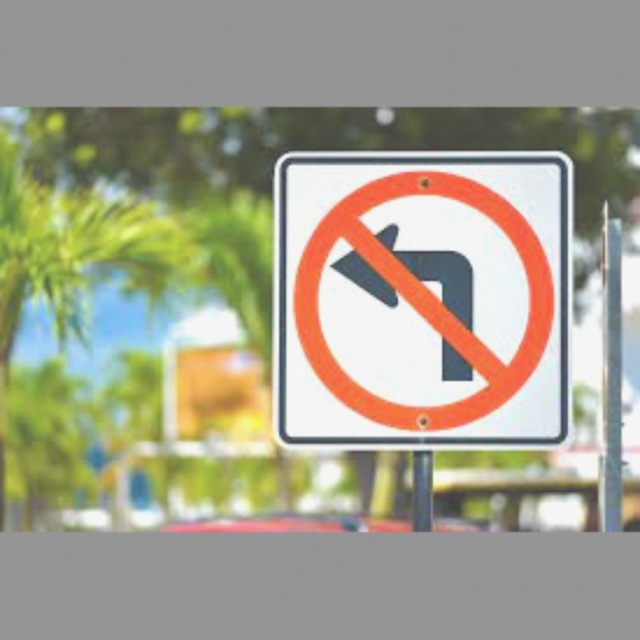Left_Turn_Prohibited: (293, 169, 561, 439)
